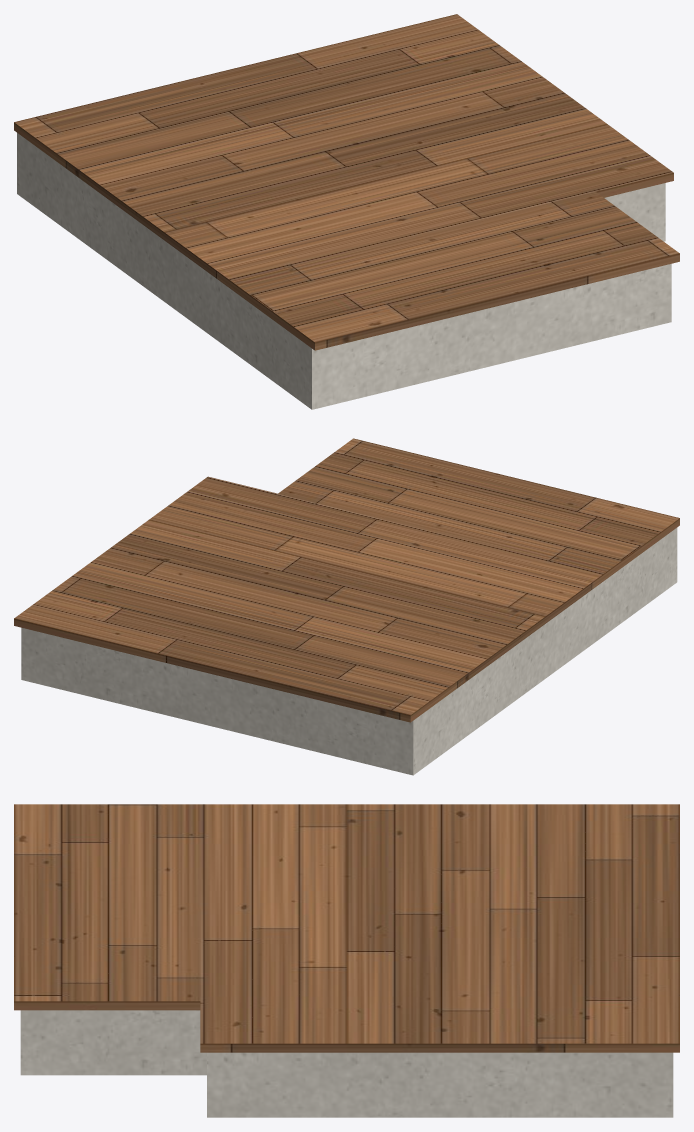
File: floor_floor_u_e1000_h3.glb
The picture shows the model from 3 angles, top to bottom: view 1: azimuth 30°, elevation 25°; view 2: azimuth 150°, elevation 25°; view 3: azimuth 270°, elevation 25°; orthographic projection. The views are drawn at different scales.
Visible parts, largest first — view 1: floor_floor_u_e1000_h3_floor, floor_floor_u_e1000_h3_plaster; view 2: floor_floor_u_e1000_h3_floor, floor_floor_u_e1000_h3_plaster; view 3: floor_floor_u_e1000_h3_floor, floor_floor_u_e1000_h3_plaster.
Boxes of the visible parts, bbox=[...] form: floor_floor_u_e1000_h3_floor: bbox=[14, 14, 679, 350]; floor_floor_u_e1000_h3_plaster: bbox=[17, 133, 671, 409]; floor_floor_u_e1000_h3_floor: bbox=[14, 438, 679, 722]; floor_floor_u_e1000_h3_plaster: bbox=[21, 528, 677, 775]; floor_floor_u_e1000_h3_floor: bbox=[14, 804, 679, 1052]; floor_floor_u_e1000_h3_plaster: bbox=[20, 1010, 673, 1117].
Bounding box in the file's own units: 1.7 × 0.255 × 2.
Materials: 2 (2 with a texture image).
